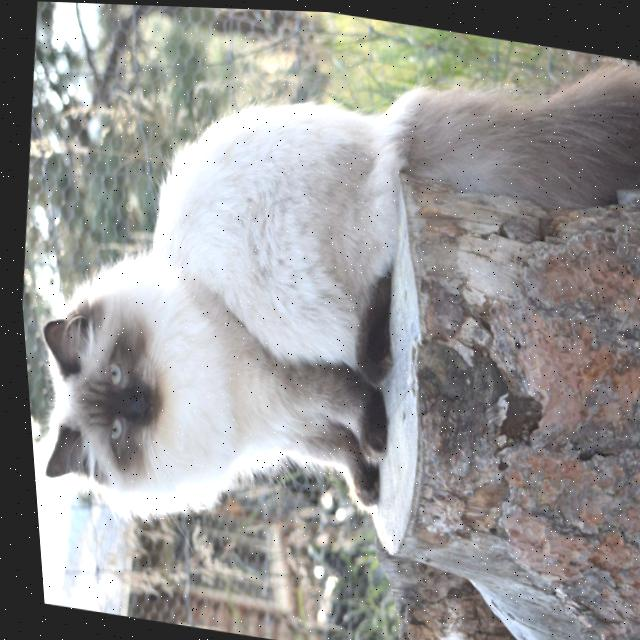Neva Masquerade: (0, 0, 640, 601)
